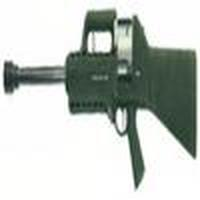gun: (3, 11, 196, 156)
